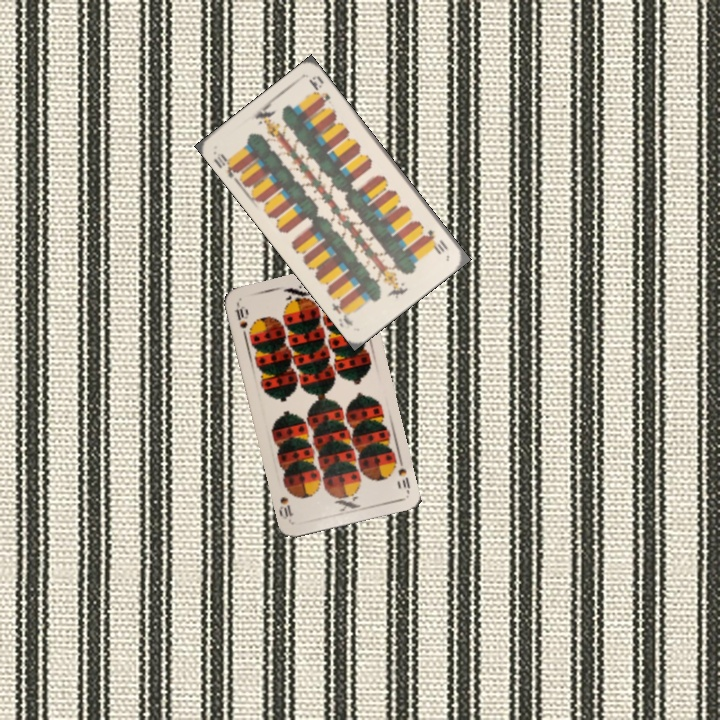E10: (210, 149, 243, 184), (423, 225, 450, 256)
S10: (389, 455, 413, 495), (231, 300, 250, 341)
